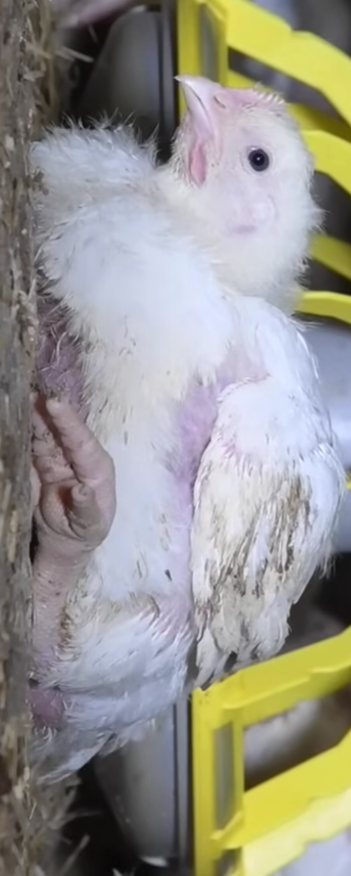Unhealthy: (15, 53, 345, 777)
